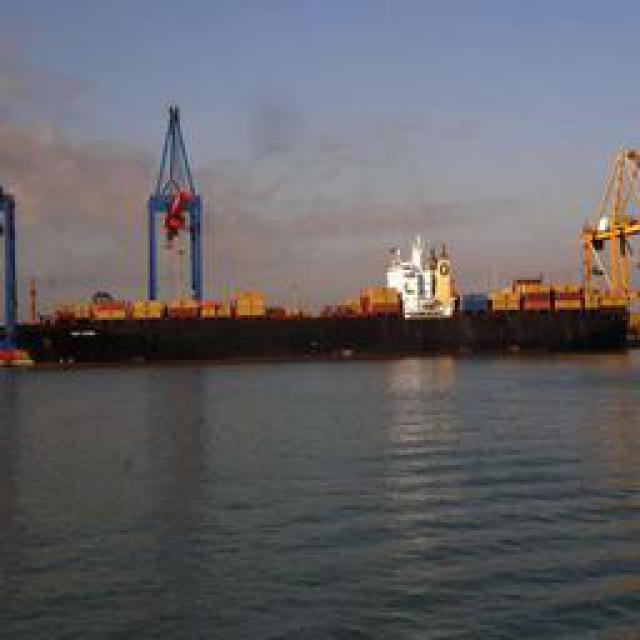Ship: (13, 231, 640, 373)
